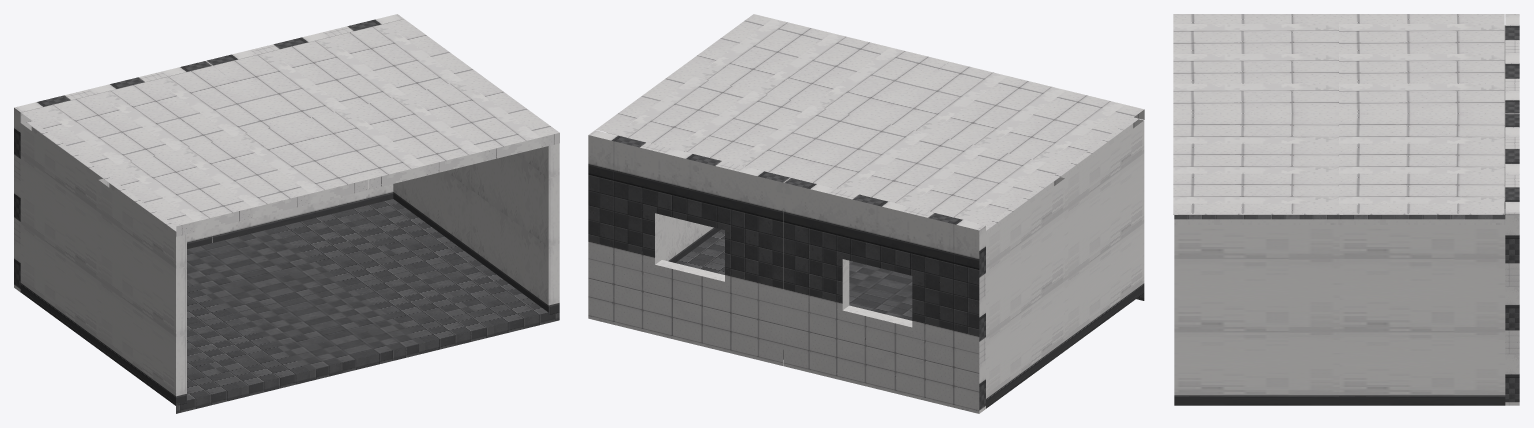
The model's file is Office.fbx.
The picture shows the model from 3 angles, left to right: view 1: azimuth 30°, elevation 25°; view 2: azimuth 150°, elevation 25°; view 3: azimuth 270°, elevation 25°; orthographic projection. The views are drawn at different scales.
Visible parts, largest first — view 1: SM_Floor_004, Object001; view 2: SM_Floor_004, Object001; view 3: SM_Floor_004.
Boxes of the visible parts, bbox=[...] form: SM_Floor_004: bbox=[14, 14, 559, 413]; Object001: bbox=[26, 120, 176, 231]; SM_Floor_004: bbox=[588, 14, 1144, 413]; Object001: bbox=[978, 117, 1138, 231]; SM_Floor_004: bbox=[1173, 14, 1519, 405].
Size of the model in its own units: 54.44 by 39.88 by 25.47.
